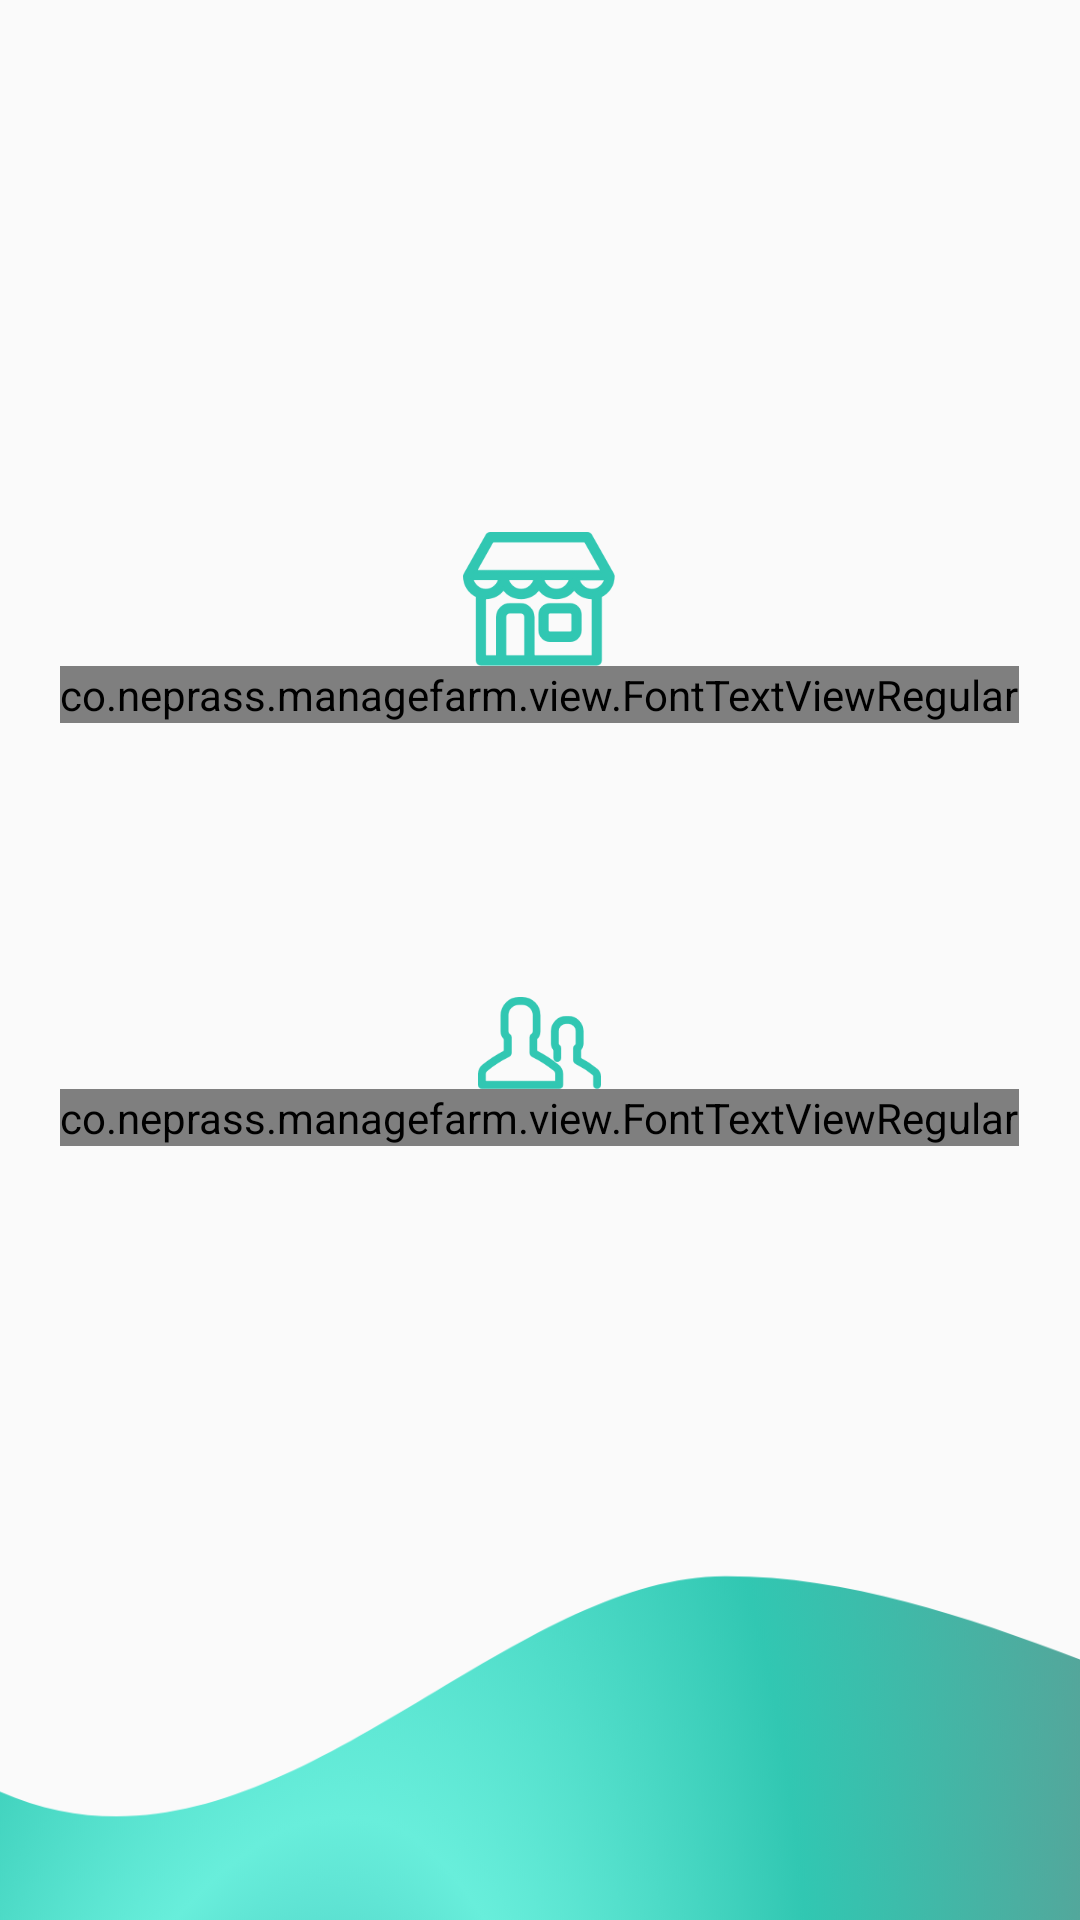

Icons on this 1080*1920 Android screen, each with its box as Rect(x1, y1, x2, y2):
shop: Rect(463, 532, 615, 666)
user: Rect(478, 997, 601, 1089)
